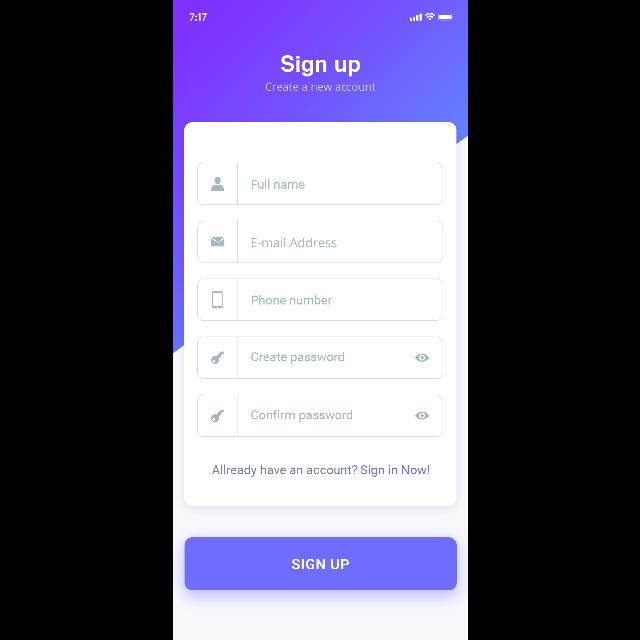icon: (210, 177, 224, 191), (415, 412, 429, 420), (415, 354, 429, 362), (210, 238, 223, 246)
image: (212, 292, 222, 308), (210, 410, 223, 422), (211, 352, 223, 364)
input: (197, 395, 443, 437), (197, 337, 443, 379), (197, 279, 443, 321), (197, 221, 443, 263), (196, 163, 442, 205)
text: (212, 465, 428, 477), (280, 55, 360, 77), (250, 410, 352, 422), (250, 352, 344, 364), (265, 82, 375, 91), (250, 238, 336, 248), (250, 296, 332, 304), (250, 179, 304, 189)
textbutton: (184, 538, 456, 590)
uppertaskbar: (189, 13, 453, 21)
